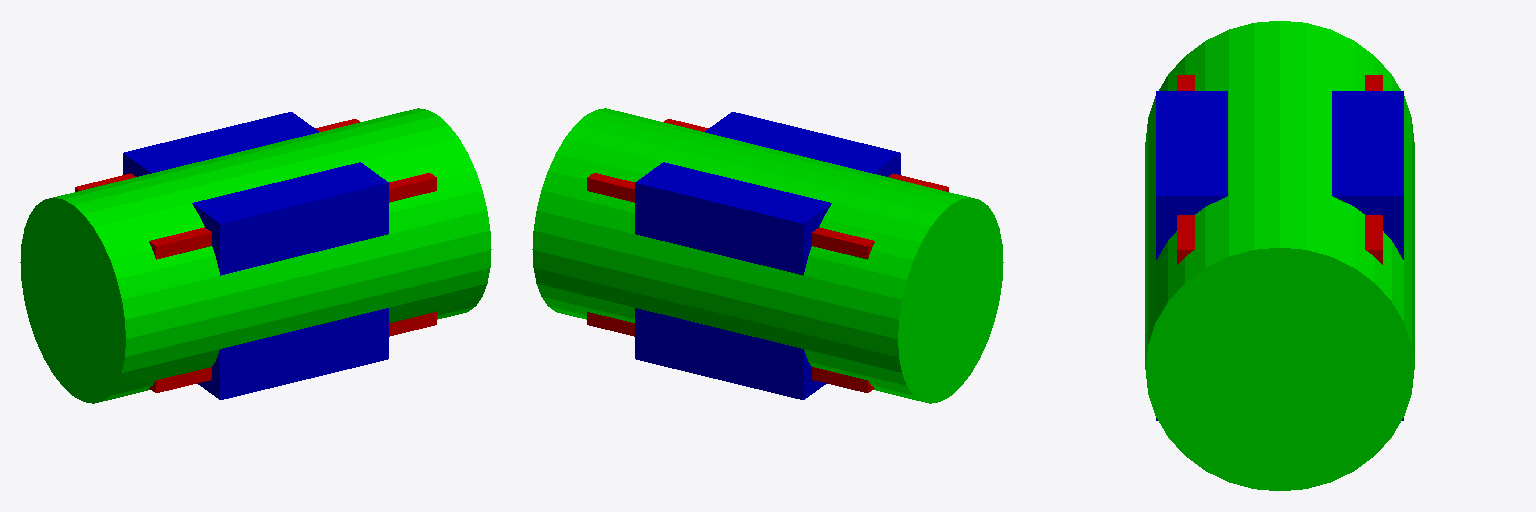
URDF robot description (multi_object):
<?xml version="1.0"?>
<robot name="multi_object">

  <material name="Black">
    <color rgba="0.0 0.0 0.0 1.0"/>
  </material>
  <material name="Blue">
    <color rgba="0.0 0.0 0.8 1.0"/>
  </material>
  <material name="Green">
    <color rgba="0.0 0.9 0.0 1.0"/>
  </material>
  <material name="Grey">
    <color rgba="0.4 0.4 0.4 1.0"/>
  </material>
  <material name="Glas">
    <color rgba="0.4 0.4 0.4 0.1"/>
  </material>
  <material name="Orange">
    <color rgba="1.0 0.423529411765 0.0392156862745 1.0"/>
  </material>
  <material name="Brown">
    <color rgba="0.870588235294 0.811764705882 0.764705882353 1.0"/>
  </material>
  <material name="Red">
    <color rgba="0.8 0.0 0.0 1.0"/>
  </material>
  <material name="White">
    <color rgba="1.0 1.0 1.0 1.0"/>
  </material>
  <material name="Silver">
    <color rgba="0.82 0.82 0.82 1.0"/>
  </material>


  <link name="base">
    <visual>
      <origin xyz="0 0 0" rpy="0 0 0" />
      <geometry>
        <box size="0.01 0.01 0.01" />
      </geometry>
    </visual>
  </link>

  <joint name="base_to_object_0" type="floating">
    <parent link="base"/>
    <child link="object_0"/>
    <origin rpy="0 0 0" xyz="0 0 0"/>
  </joint>

  <link name="object_0">
    <visual>
      <origin xyz="0 0 0" rpy="0 0 0" />
      <geometry>
        <box size="0.1 0.05 0.05" />
      </geometry>
      <material name="Red"/>
    </visual>
  </link>

  <joint name="base_to_object_1" type="floating">
    <parent link="base"/>
    <child link="object_1"/>
    <origin rpy="0 0 0" xyz="0 0 0"/>
  </joint>

  <link name="object_1">
    <visual>
      <origin xyz="0 0 0" rpy="0 1.57 0" />
      <geometry>
        <cylinder length="0.130" radius="0.0325" />
      </geometry>
      <material name="Green"/>
    </visual>
    <collision>
      <geometry>
        <cylinder length="0.130" radius="0.0325" />
      </geometry>
    </collision>
  </link>

  <joint name="base_to_object_2" type="floating">
    <parent link="base"/>
    <child link="object_2"/>
    <origin rpy="0 0 0" xyz="0 0 0"/>
  </joint>

  <link name="object_2">
    <visual>
      <origin xyz="0 0 0" rpy="0 0 0" />git
      <geometry>
        <box size="0.06 0.06 0.06" />
      </geometry>
      <material name="Blue"/>
    </visual>
     <collision>
      <geometry>
        <box size="0.059 0.059 0.056" />
      </geometry>
    </collision>
    <collision>
      <origin xyz="-0.03 -0.03 -0.03" rpy="0 0 0"/>
      <geometry>
        <sphere radius="1e-7"/>
      </geometry>
    </collision>
    <collision>
      <origin xyz="-0.03 0.03 -0.03" rpy="0 0 0"/>
      <geometry>
        <sphere radius="1e-7"/>
      </geometry>
    </collision>
    <collision>
      <origin xyz="0.03 0.03 -0.03" rpy="0 0 0"/>
      <geometry>
        <sphere radius="1e-7"/>
      </geometry>
    </collision>
    <collision>
      <origin xyz="0.03 -0.03 -0.03" rpy="0 0 0"/>
      <geometry>
        <sphere radius="1e-7"/>
      </geometry>
    </collision>
    <collision>
      <origin xyz="-0.03 -0.03 0.03" rpy="0 0 0"/>
      <geometry>
        <sphere radius="1e-7"/>
      </geometry>
    </collision>
    <collision>
      <origin xyz="-0.03 0.03 0.03" rpy="0 0 0"/>
      <geometry>
        <sphere radius="1e-7"/>
      </geometry>
    </collision>
    <collision>
      <origin xyz="0.03 0.03 0.03" rpy="0 0 0"/>
      <geometry>
        <sphere radius="1e-7"/>
      </geometry>
    </collision>
    <collision>
      <origin xyz="0.03 -0.03 0.03" rpy="0 0 0"/>
      <geometry>
        <sphere radius="1e-7"/>
      </geometry>
    </collision>
  </link>

</robot>

--- Facts derived from the render (not from the file) ---
3 views of the same robot in one strip: view 1: azimuth 30°, elevation 25°; view 2: azimuth 150°, elevation 25°; view 3: azimuth 270°, elevation 25° (orthographic).
Model multi_object with 4 links and 3 joints (3 floating), rooted at base, posed all joints at 0.
Links seen in each view (by area): view 1: object_1, object_2, object_0; view 2: object_1, object_2, object_0; view 3: object_1, object_2, object_0.
Boxes of the visible links, x1,y1,x2,y2 form: object_1: (20, 108, 491, 403); object_2: (123, 112, 388, 399); object_0: (75, 119, 436, 392); object_1: (532, 108, 1003, 403); object_2: (635, 112, 900, 399); object_0: (587, 119, 948, 392); object_1: (1145, 21, 1414, 490); object_2: (1156, 91, 1403, 420); object_0: (1177, 75, 1382, 264).
Size in the robot's own frame: 0.1301 by 0.065 by 0.0651 metres.
Geometry: primitives only (box / cylinder / sphere), no mesh files.